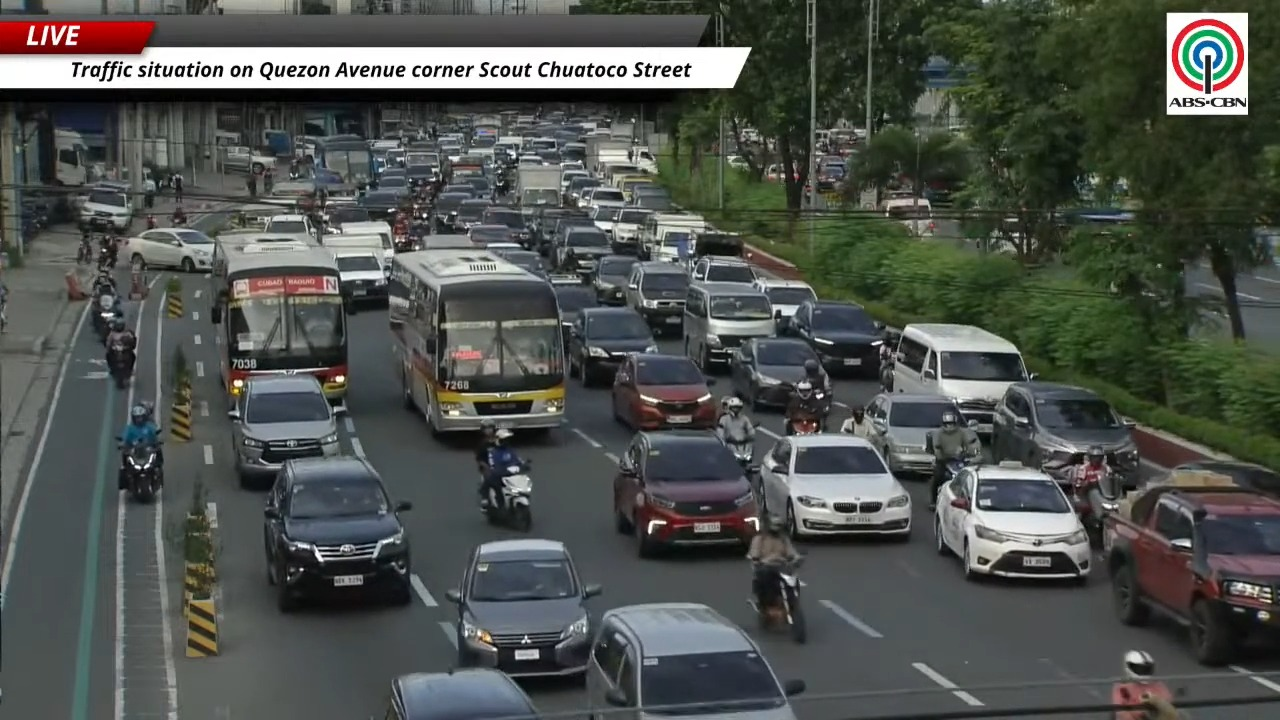bus: (388, 248, 565, 434), (210, 242, 347, 404), (313, 135, 374, 185)
car: (586, 602, 804, 719), (264, 456, 413, 611), (446, 538, 600, 676), (933, 461, 1092, 582), (613, 430, 758, 557), (759, 433, 911, 540), (990, 380, 1139, 488), (228, 374, 339, 487), (375, 668, 539, 719), (611, 354, 717, 429), (865, 393, 959, 475), (783, 300, 884, 375), (566, 307, 658, 386), (728, 338, 818, 408), (624, 261, 689, 333), (1172, 460, 1279, 498), (124, 228, 213, 272), (548, 274, 597, 346), (334, 249, 387, 308), (754, 276, 816, 324), (521, 207, 579, 255), (553, 226, 610, 273), (78, 186, 132, 232), (545, 212, 593, 263), (593, 254, 638, 305), (482, 206, 530, 248), (611, 207, 651, 255), (691, 256, 756, 285), (359, 187, 408, 221), (433, 192, 471, 232), (491, 249, 546, 276), (454, 198, 491, 232), (629, 184, 675, 211), (326, 206, 373, 231), (264, 214, 314, 234), (565, 177, 600, 205), (467, 224, 511, 246), (591, 205, 620, 235), (463, 176, 493, 198), (377, 171, 408, 190), (441, 183, 476, 198), (484, 241, 521, 251)
motorcycle: (1041, 462, 1117, 549), (748, 560, 806, 643), (484, 461, 532, 531), (1112, 680, 1183, 719), (122, 440, 162, 502), (91, 293, 119, 341), (107, 342, 135, 388), (944, 454, 980, 481), (726, 440, 753, 470), (878, 345, 894, 392), (786, 414, 820, 435), (97, 247, 117, 271), (76, 237, 92, 264), (171, 214, 186, 227), (146, 214, 158, 230)
truck: (1102, 470, 1279, 666), (17, 121, 90, 186), (515, 165, 561, 207), (585, 136, 632, 171), (609, 121, 635, 143)
